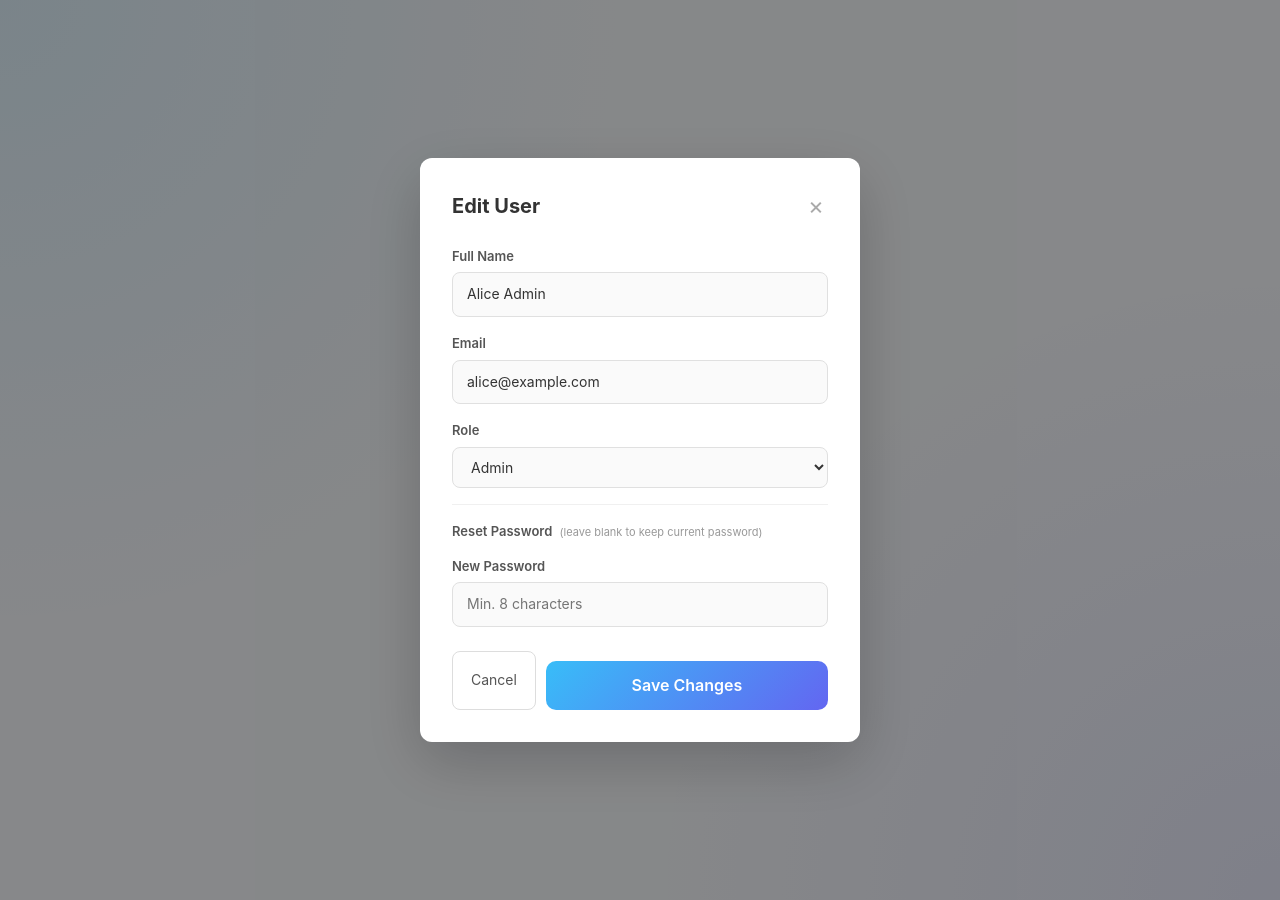
Scenario: EditUserModal › failed submission › shows a server error message when the API returns an error
Click the button "Save Changes" at (687, 686), box [546, 661, 828, 710]
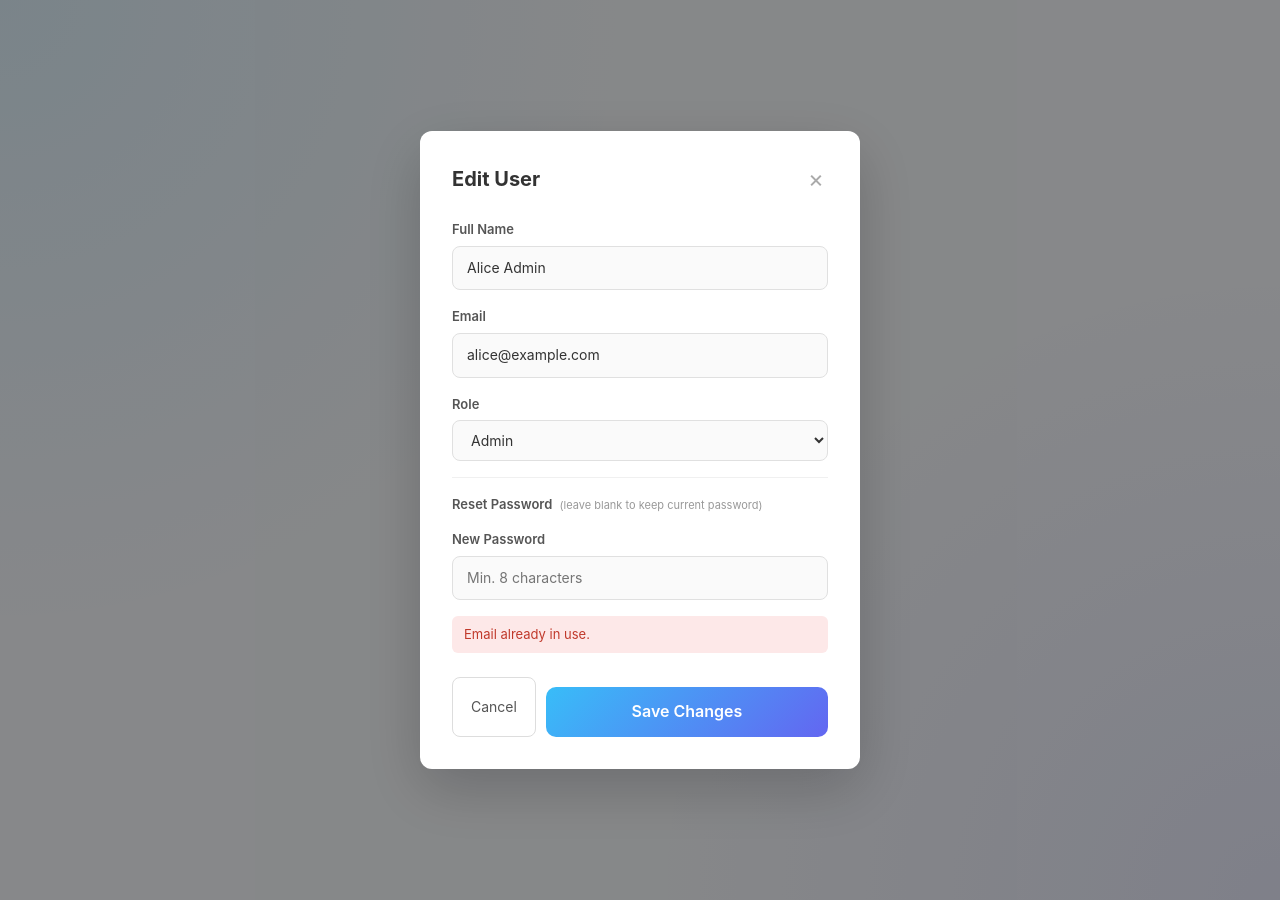
Expected: the text "Email already in use." is shown, [452, 616, 828, 653]
